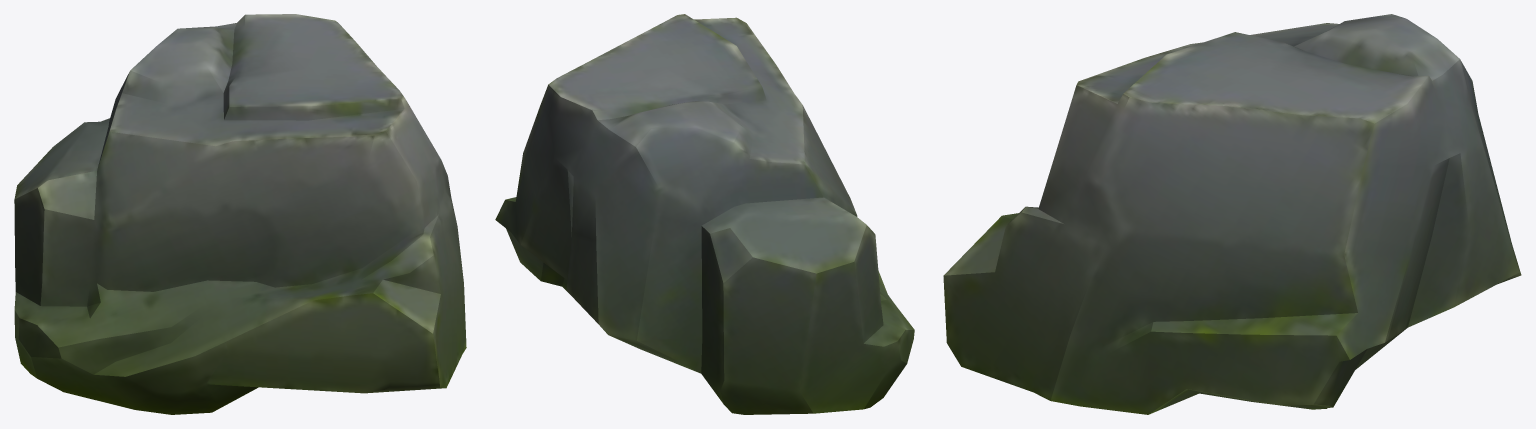
The model's file is RockMedium.glb.
3 renders of one model, left to right at view 1: azimuth 30°, elevation 25°; view 2: azimuth 150°, elevation 25°; view 3: azimuth 270°, elevation 25°, orthographic. The views are drawn at different scales.
Visible parts, largest first — view 1: Rock_Medium_3; view 2: Rock_Medium_3; view 3: Rock_Medium_3.
Part boxes in pixels (x1,y1,x2,y2): Rock_Medium_3: (14, 14, 466, 414); Rock_Medium_3: (495, 14, 914, 414); Rock_Medium_3: (943, 14, 1521, 414).
Bounding box in the file's own units: 3.42 × 2.32 × 3.48.
1 material, 1 textured.
